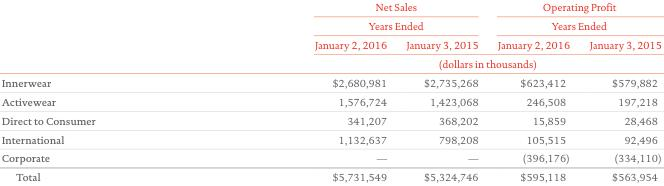table: (0, 0, 660, 182)
table column: (0, 0, 204, 182), (204, 0, 395, 182), (395, 0, 487, 182), (487, 0, 578, 182), (578, 0, 660, 182)
table column header: (0, 0, 660, 72)
table row: (0, 0, 660, 35), (0, 35, 660, 54), (0, 72, 660, 91), (0, 91, 660, 110), (0, 110, 660, 129), (0, 129, 660, 148), (0, 148, 660, 167), (0, 54, 660, 72), (0, 167, 660, 182)
table spanning cell: (204, 0, 487, 35), (204, 54, 660, 72), (487, 0, 660, 35)
